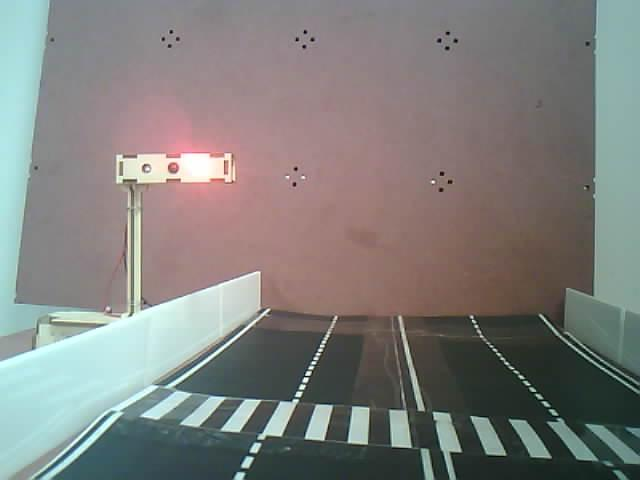crosswalk: (110, 372, 640, 474)
red: (85, 141, 279, 222)
